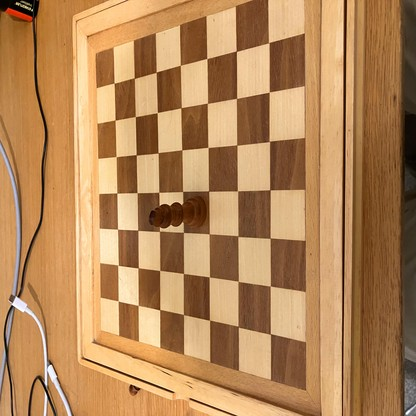king_black: (149, 199, 206, 229)
